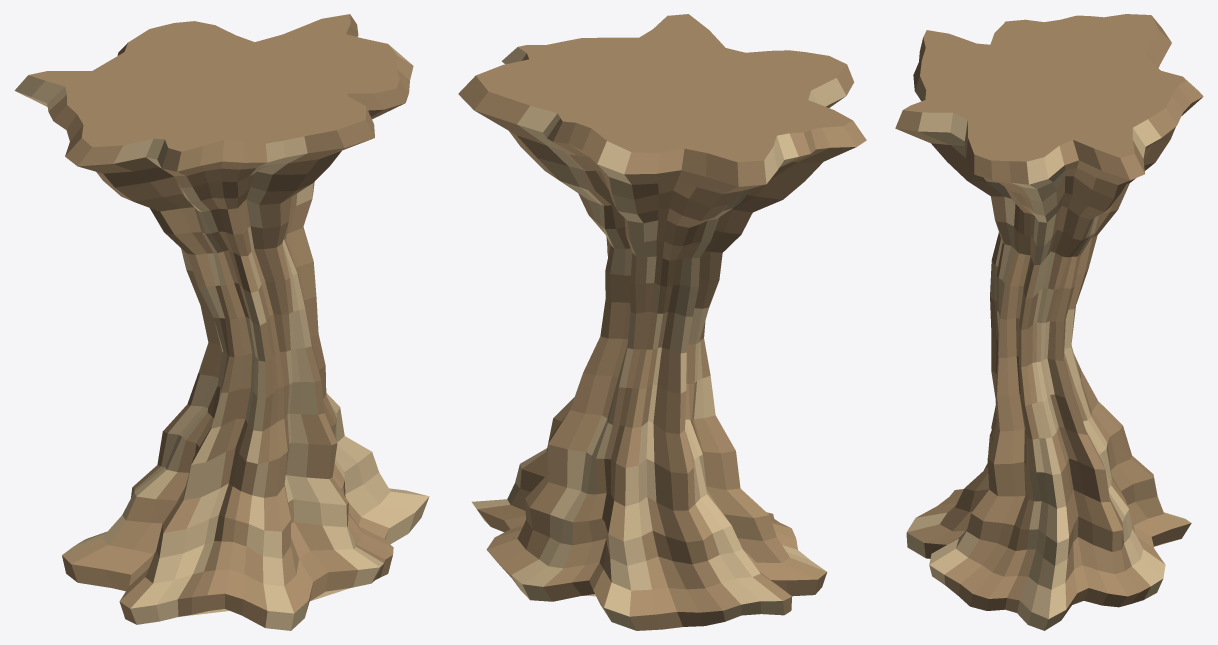
Rendered from cave-column.glb.
The picture shows the model from 3 angles, left to right: view 1: azimuth 30°, elevation 25°; view 2: azimuth 150°, elevation 25°; view 3: azimuth 270°, elevation 25°; orthographic projection. The views are drawn at different scales.
Parts seen in each view (by area): view 1: continuous-fluted-column-and-attachments; view 2: continuous-fluted-column-and-attachments; view 3: continuous-fluted-column-and-attachments.
Boxes of the visible parts, bbox=[...] form: continuous-fluted-column-and-attachments: bbox=[14, 14, 429, 630]; continuous-fluted-column-and-attachments: bbox=[458, 14, 866, 630]; continuous-fluted-column-and-attachments: bbox=[895, 14, 1203, 630].
Bounding box in the file's own units: 2.57 × 3.26 × 1.92.
